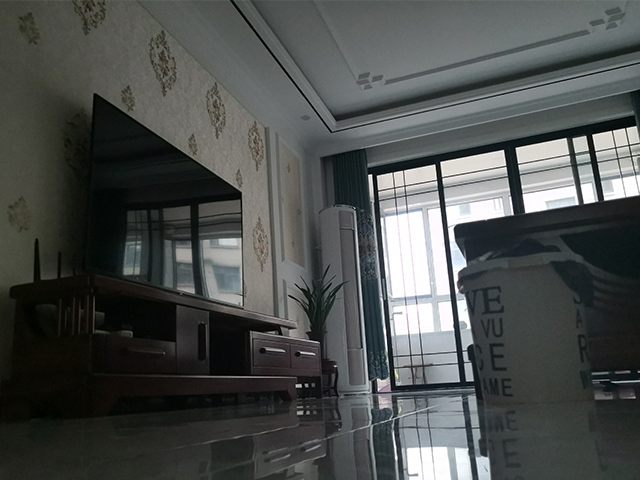cabinet: (1, 266, 325, 421)
curtain: (328, 146, 394, 383)
stool: (321, 359, 340, 398)
table: (452, 192, 640, 395)
trashcan: (456, 248, 597, 410)
